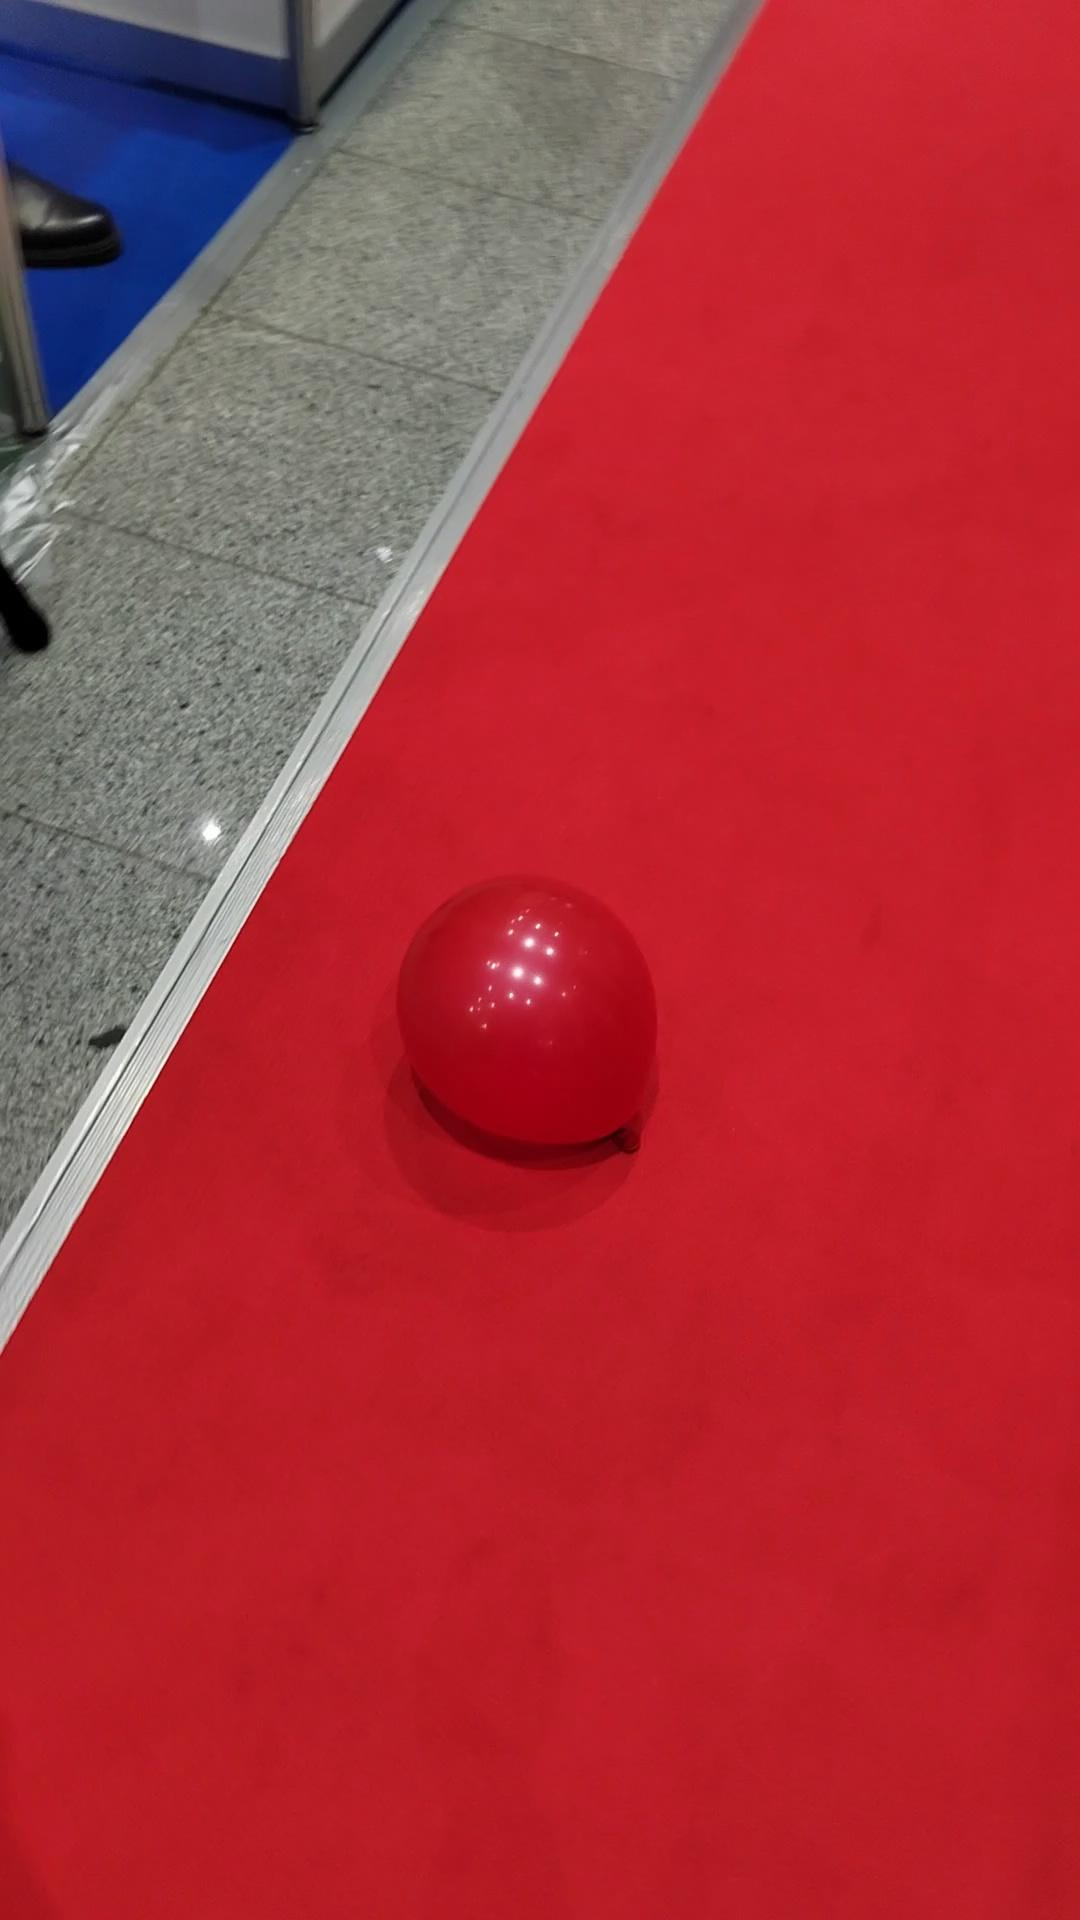red: (397, 877, 655, 1147)
